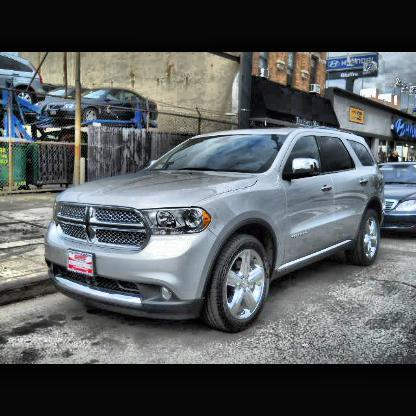Dodge Durango SUV 2012: (45, 125, 388, 337)
